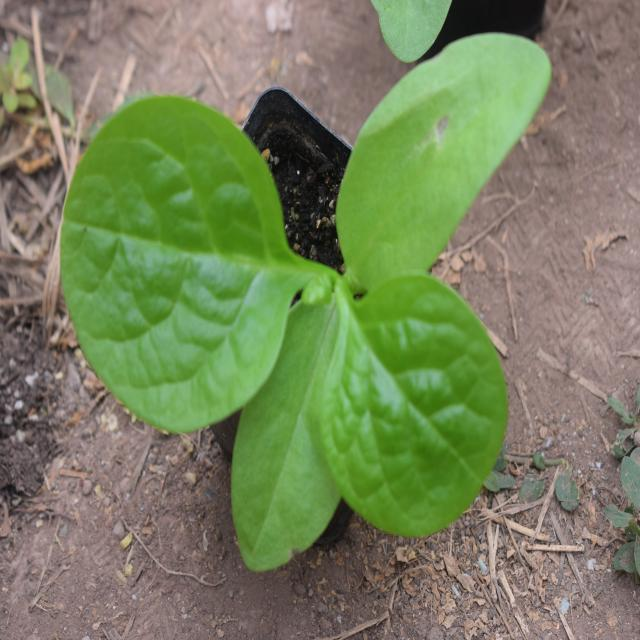Ceylon spinach: (47, 88, 523, 538)
